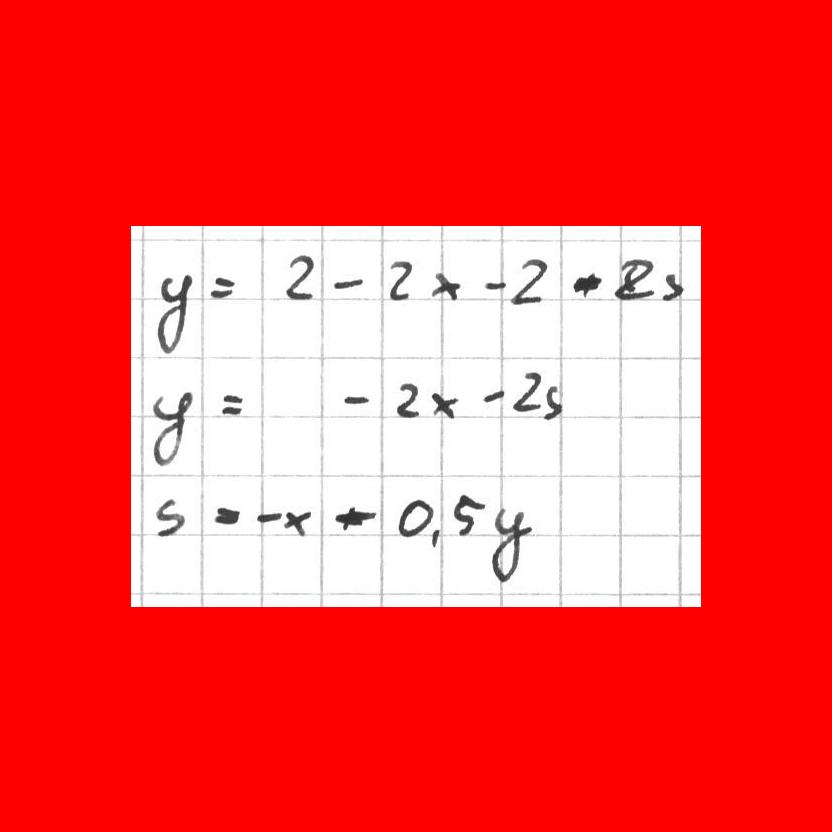Char: (148, 390, 193, 466), (487, 506, 531, 583), (155, 273, 195, 355), (395, 495, 439, 541), (282, 251, 319, 305), (511, 256, 550, 306), (613, 256, 653, 303), (451, 491, 484, 539), (152, 494, 185, 539), (386, 257, 416, 303), (333, 502, 376, 534), (512, 369, 539, 415), (429, 270, 461, 302), (393, 380, 420, 417), (571, 267, 601, 298), (430, 388, 458, 419), (217, 388, 244, 420), (283, 509, 312, 537), (542, 384, 563, 421), (207, 272, 235, 299), (659, 271, 684, 301), (211, 504, 241, 528), (331, 271, 365, 292), (479, 275, 508, 295), (339, 390, 372, 407), (480, 386, 505, 406), (255, 509, 281, 523)
